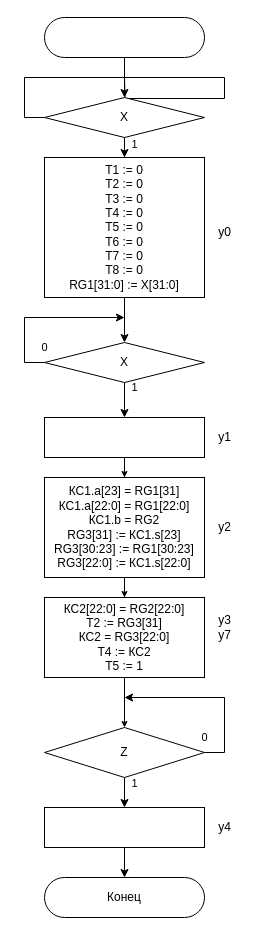
The diagram is 262 pixels wide and 935 high, and some of its shapes have lost their labels. Each missing label, with the centre of its shape:
"RG2[23] := X[31] RG2[22:0] := X[22:0]" goes at (x=124, y=437).
"Z = RG3" goes at (x=124, y=827).
"Начало" goes at (x=124, y=37).
